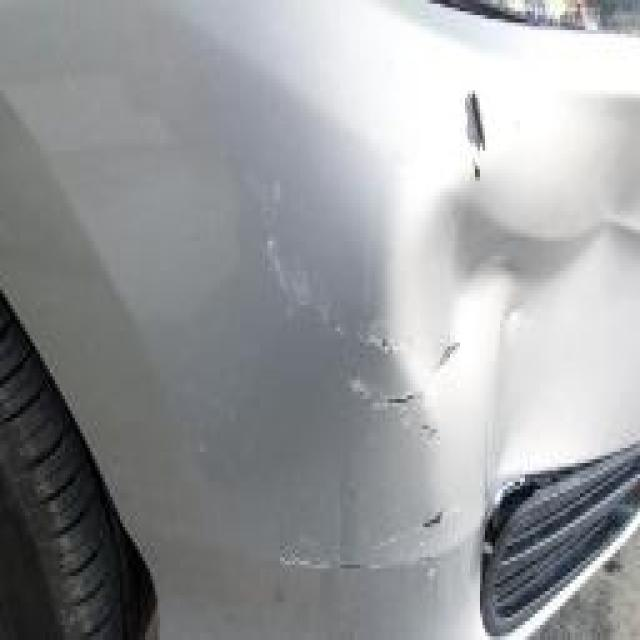Bumper: (188, 56, 620, 640)
